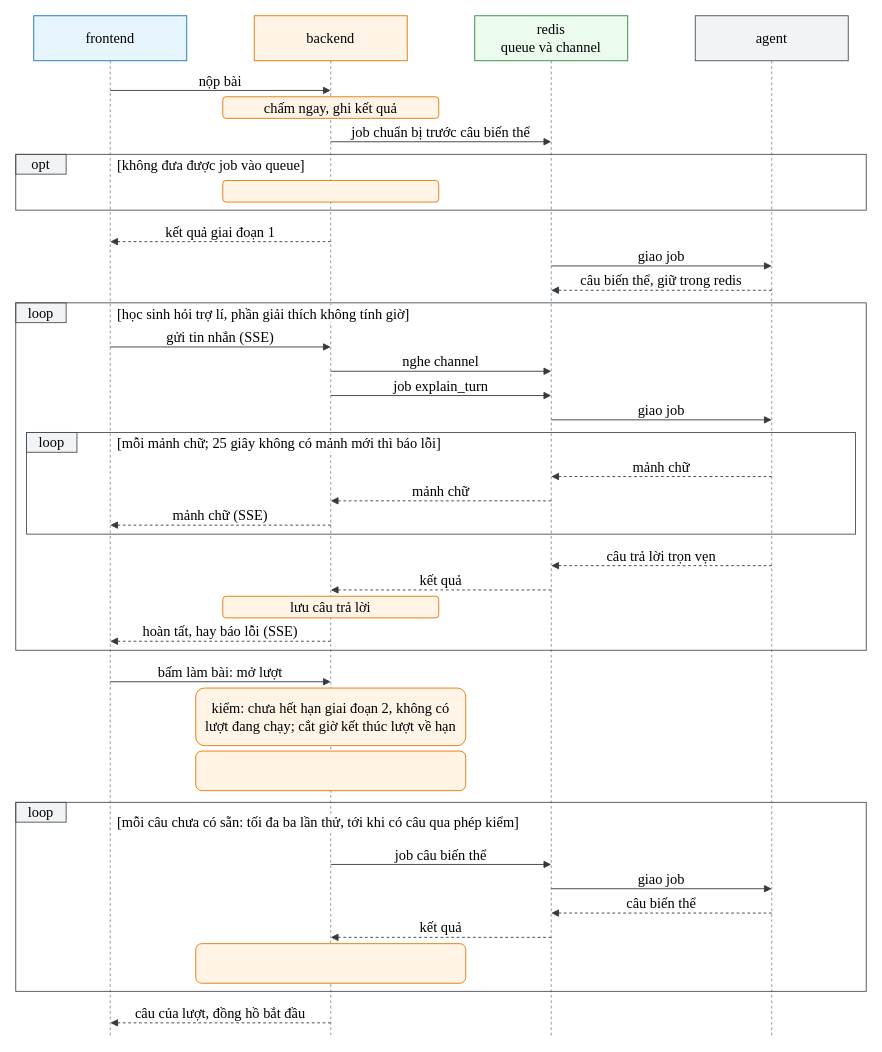
The diagram is 882 pixels wide and 1052 high, and some of its shapes have lost their labels. The shapes that lost their labels are listed below. From the top down, each one's centre as x and y in pixels, then its label:
At point 330,191: "bài nộp vẫn được ghi nhận".
At point 330,770: "thu hoạch câu đã chuẩn bị trước; câu không qua phép kiểm thì bỏ".
At point 330,963: "kiểm: đúng hình dạng câu; đề bài không trùng câu gốc hay các lượt trước".
